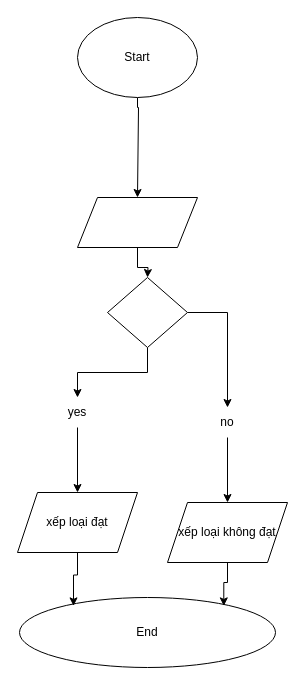
The diagram is 305 pixels wide and 685 high, and some of its shapes have lost their labels. The box of each missing label's shape, as (x1, y1, x2, y2) in pixels:
D>=5: (106, 276, 188, 348)
nhập điểm D: (76, 196, 198, 248)
